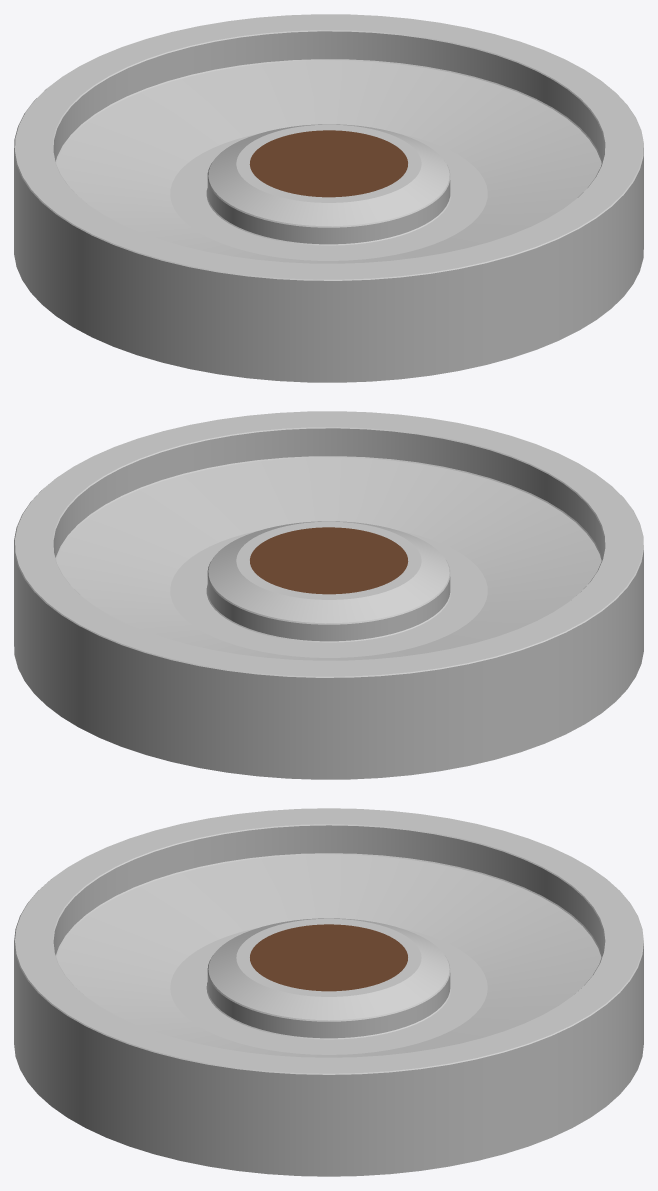
Rendered from Maceta circular_UV.fbx.
The picture shows the model from 3 angles, top to bottom: view 1: azimuth 30°, elevation 25°; view 2: azimuth 150°, elevation 25°; view 3: azimuth 270°, elevation 25°; orthographic projection.
Parts seen in each view (by area): view 1: Cylinder.041; view 2: Cylinder.041; view 3: Cylinder.041.
Boxes of the visible parts, box(x1,y1,x2,y2) form: Cylinder.041: box(14, 14, 643, 382); Cylinder.041: box(14, 411, 643, 779); Cylinder.041: box(14, 808, 643, 1176).
Bounding box in the file's own units: 378 × 68 × 378.
